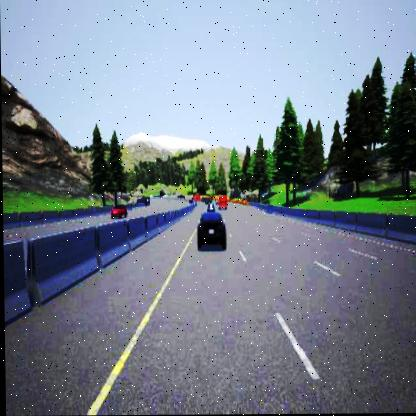bike: (204, 200, 216, 216)
vehicle: (195, 213, 226, 248), (108, 201, 126, 221), (216, 192, 227, 211)
